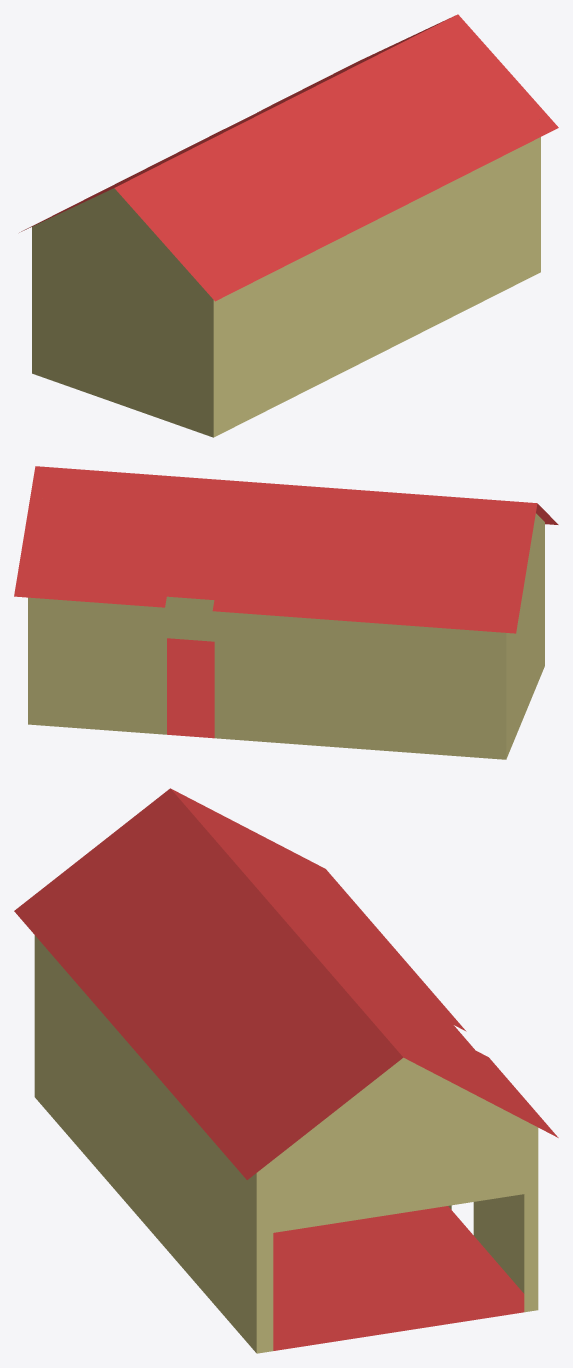
3 renders of one model, top to bottom at view 1: azimuth 30°, elevation 25°; view 2: azimuth 150°, elevation 25°; view 3: azimuth 270°, elevation 25°, orthographic. The views are drawn at different scales.
Bounding box in the file's own units: 34.93 × 25.34 × 14.4.
